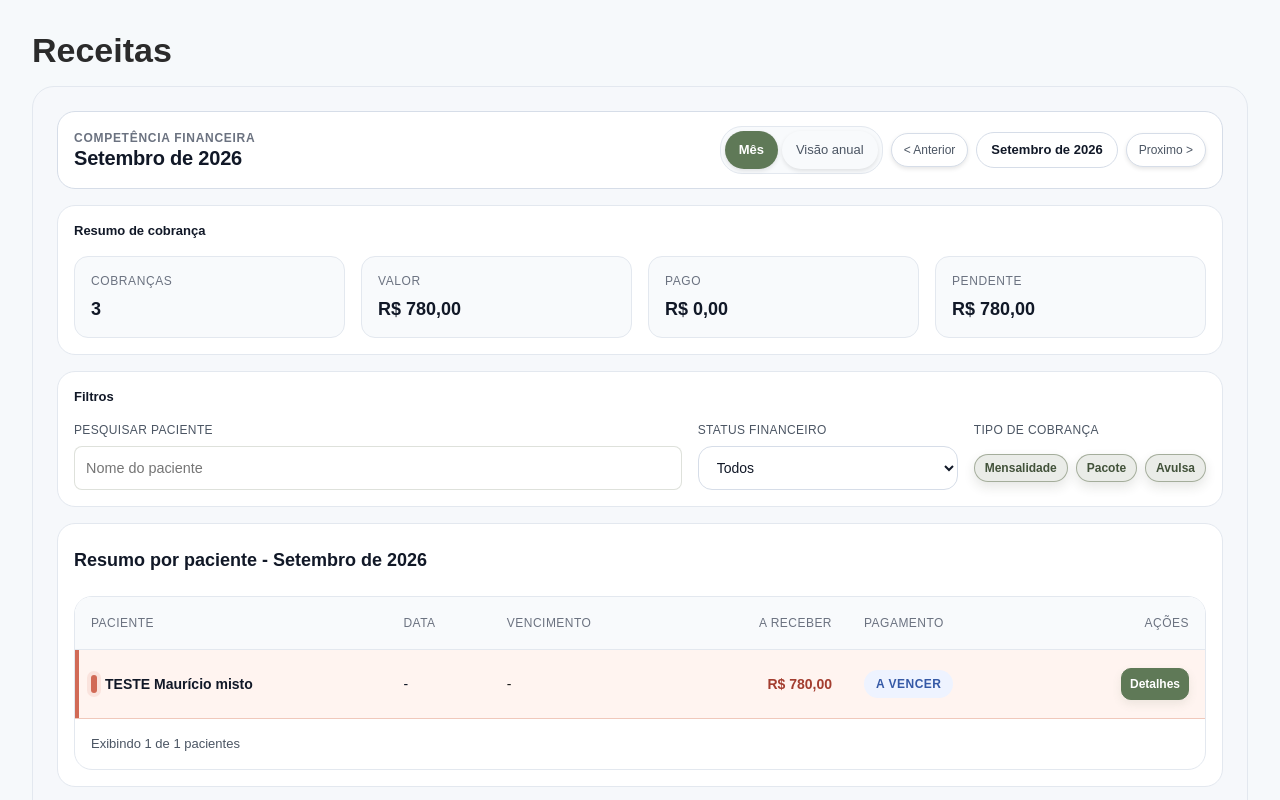
combinação 0 filtra pacientes e cobranças sem limitar o recebimento
Check: the text "TESTE Maurício misto" is shown, box [105, 676, 253, 692]
Click the button "Mensalidade".
click(1021, 468)  # box [974, 454, 1068, 482]
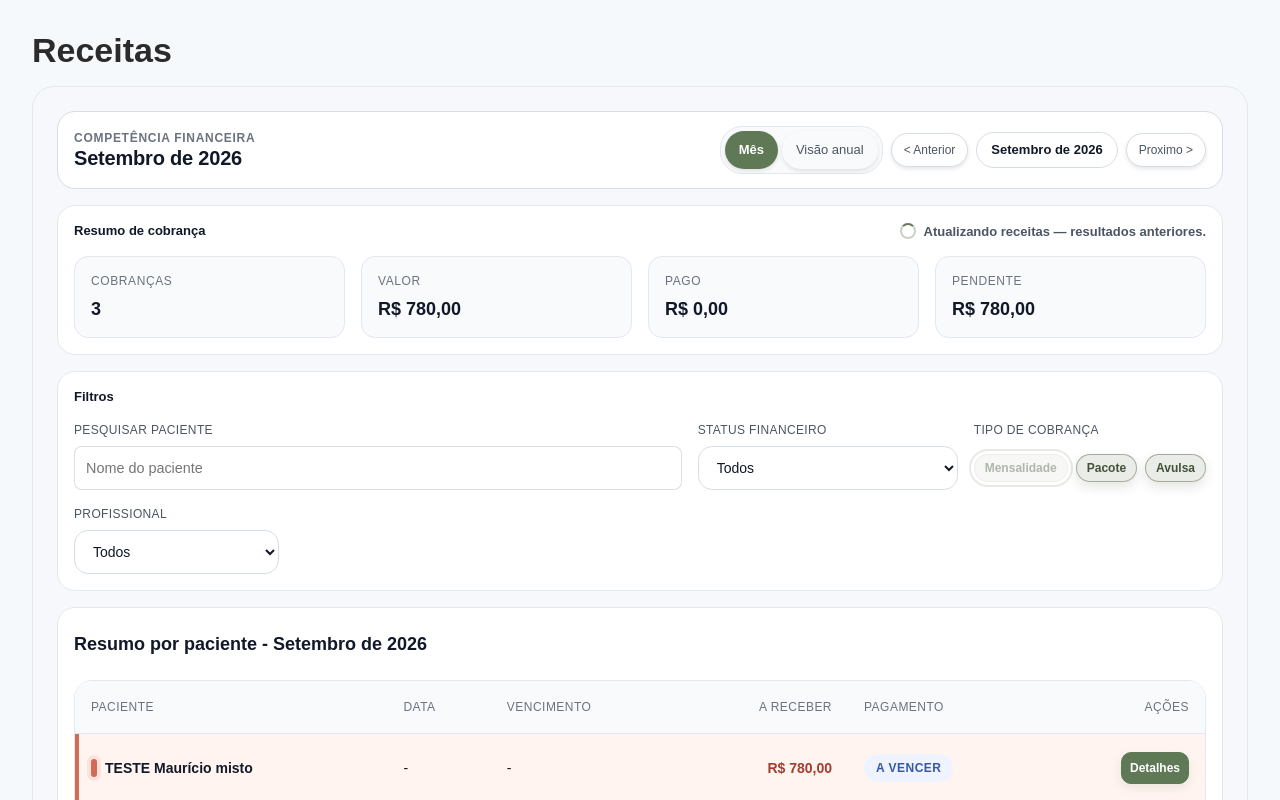
Click the button "Pacote".
click(1106, 468)  # box [1076, 454, 1137, 482]
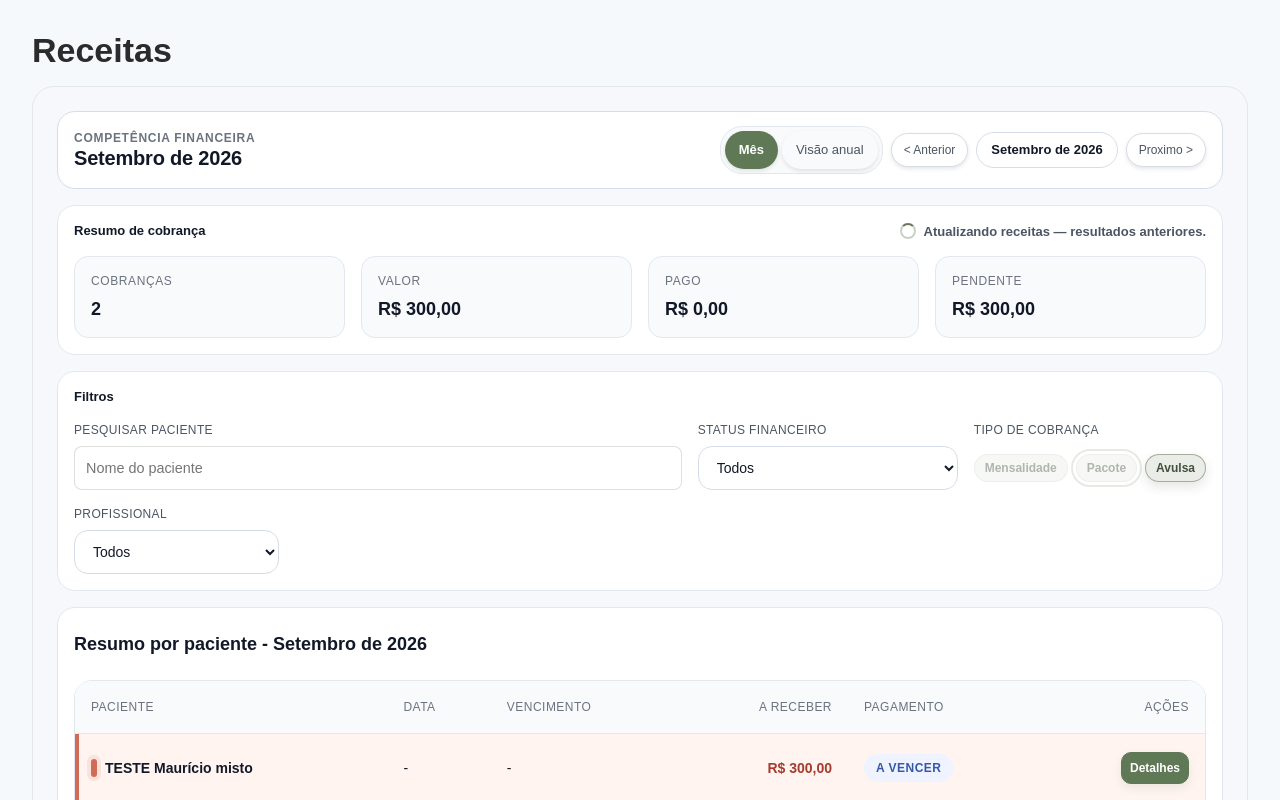
Click the button "Avulsa".
click(1176, 468)  # box [1145, 454, 1206, 482]
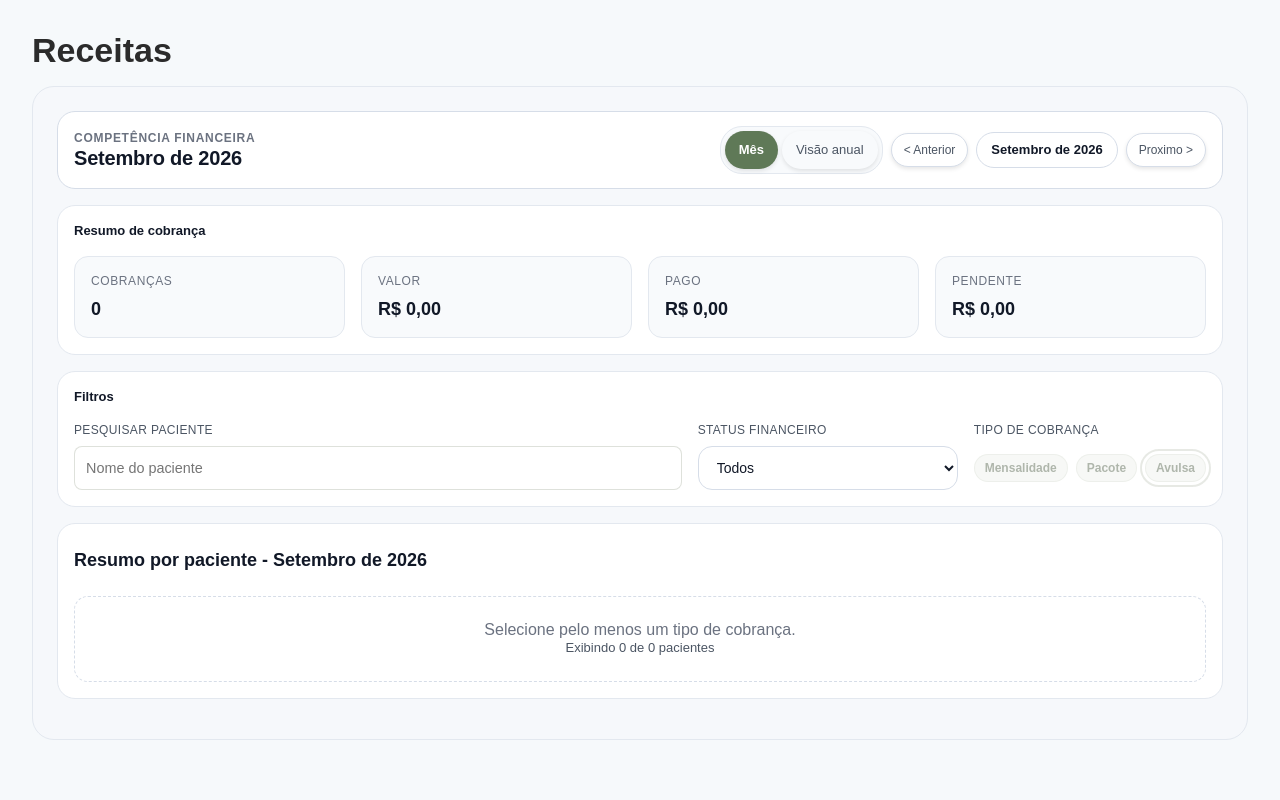
Check: the text "TESTE Maurício misto" is gone
